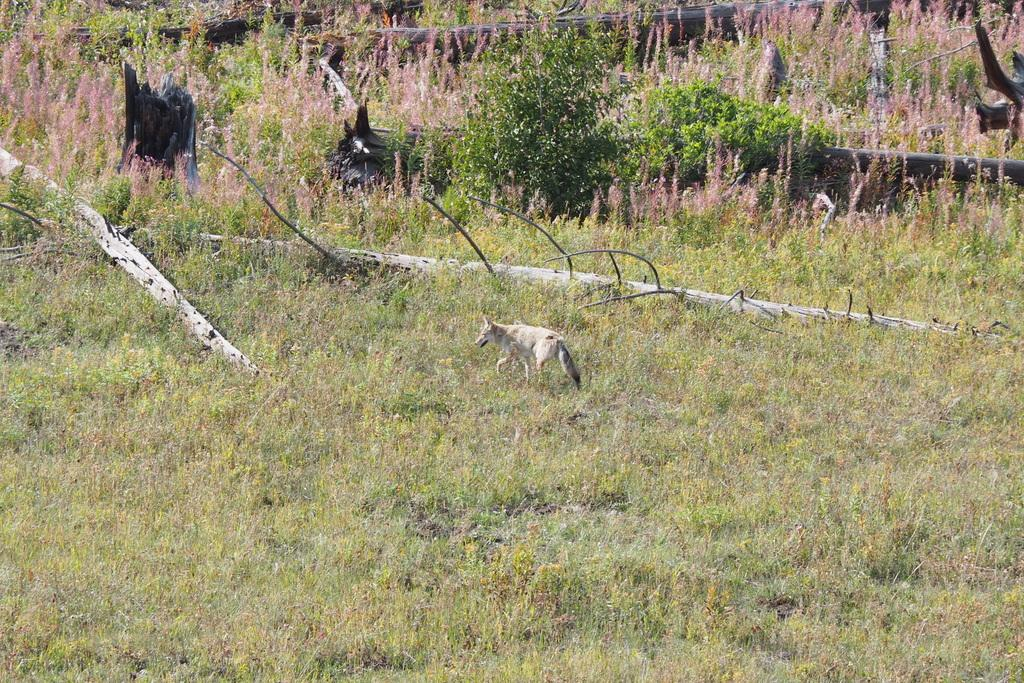Coyote: (471, 315, 589, 390)
